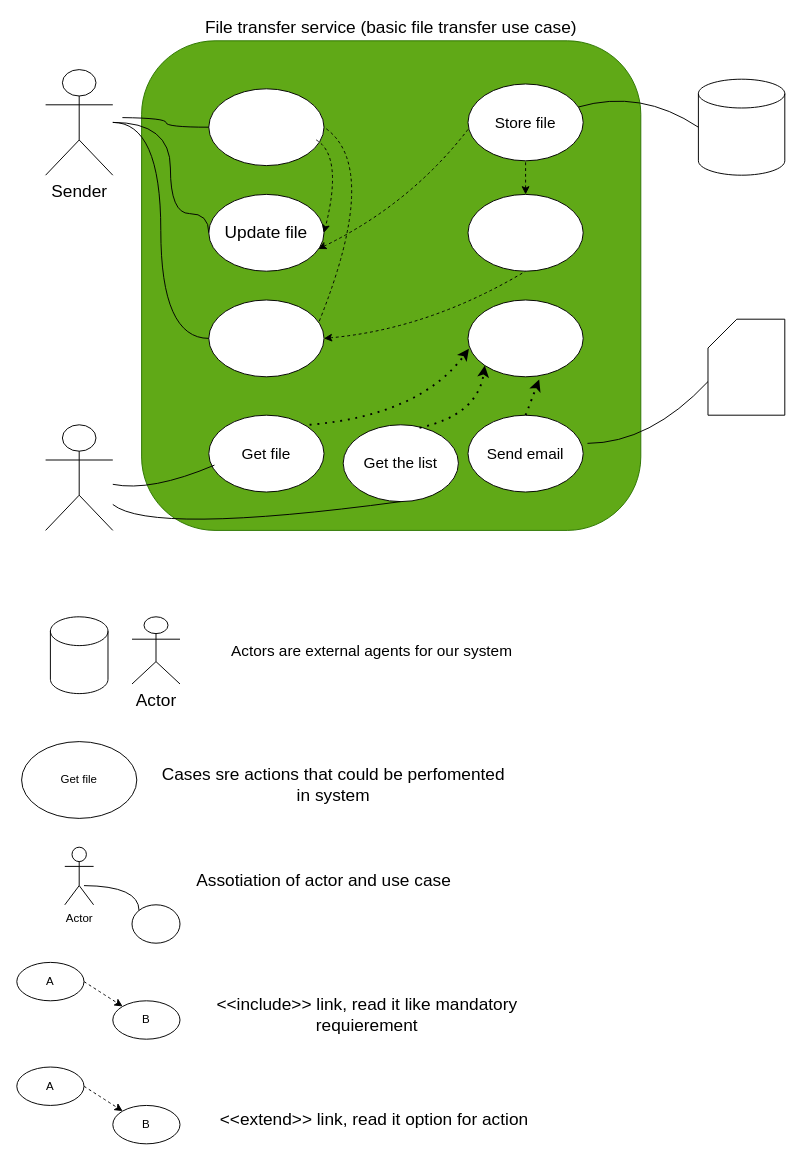
Image size: 802x1161. Some labels were removed from this diagram. The shapes that lost their labels are listed below. From the top down, each one's centre as x and y in pixels, then its label:
pixel 266 127: Send file
pixel 741 126: Storage
pixel 525 232: Save file metadate
pixel 266 338: Specify Recepient
pixel 525 338: Get avaliable
pixel 746 366: Email Service
pixel 79 477: Recepient
